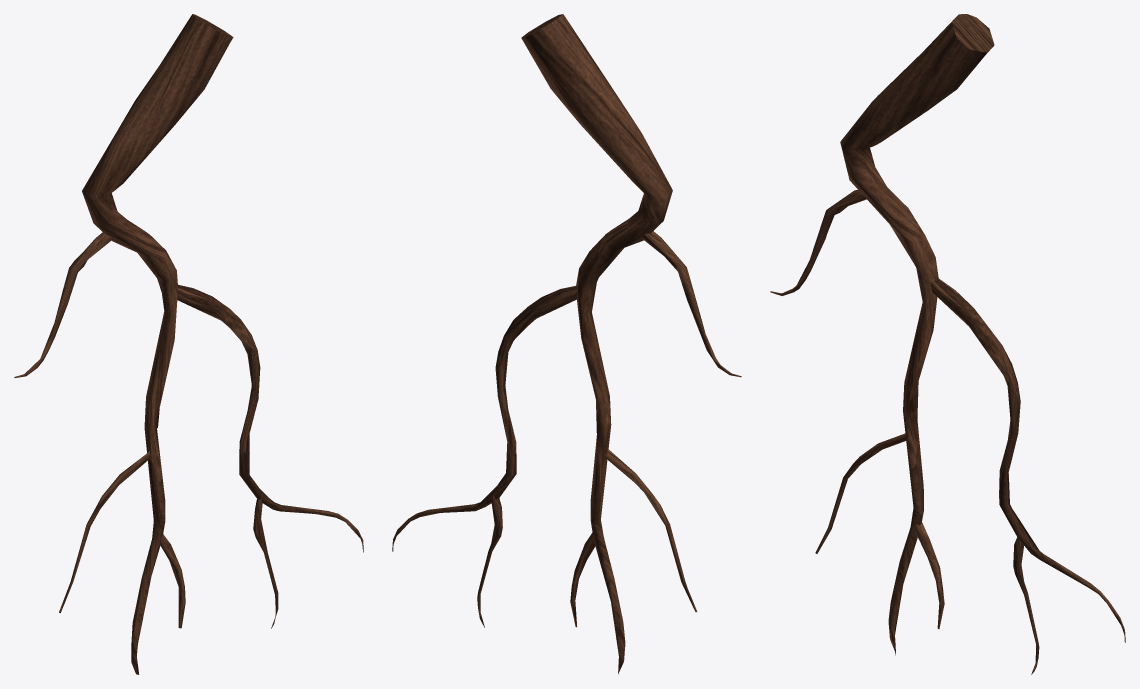
The model's file is wallroots.FBX.
3 views of the same model, side by side, from view 1: azimuth 30°, elevation 25°; view 2: azimuth 150°, elevation 25°; view 3: azimuth 330°, elevation 25° (orthographic).
Visible parts, largest first — view 1: Line001; view 2: Line001; view 3: Line001.
Part boxes in pixels (bbox=[...]): Line001: bbox=[14, 14, 363, 674]; Line001: bbox=[392, 14, 741, 674]; Line001: bbox=[770, 14, 1125, 674].
Size of the model in its own units: 192 by 338 by 23.
1 material, 1 textured.
